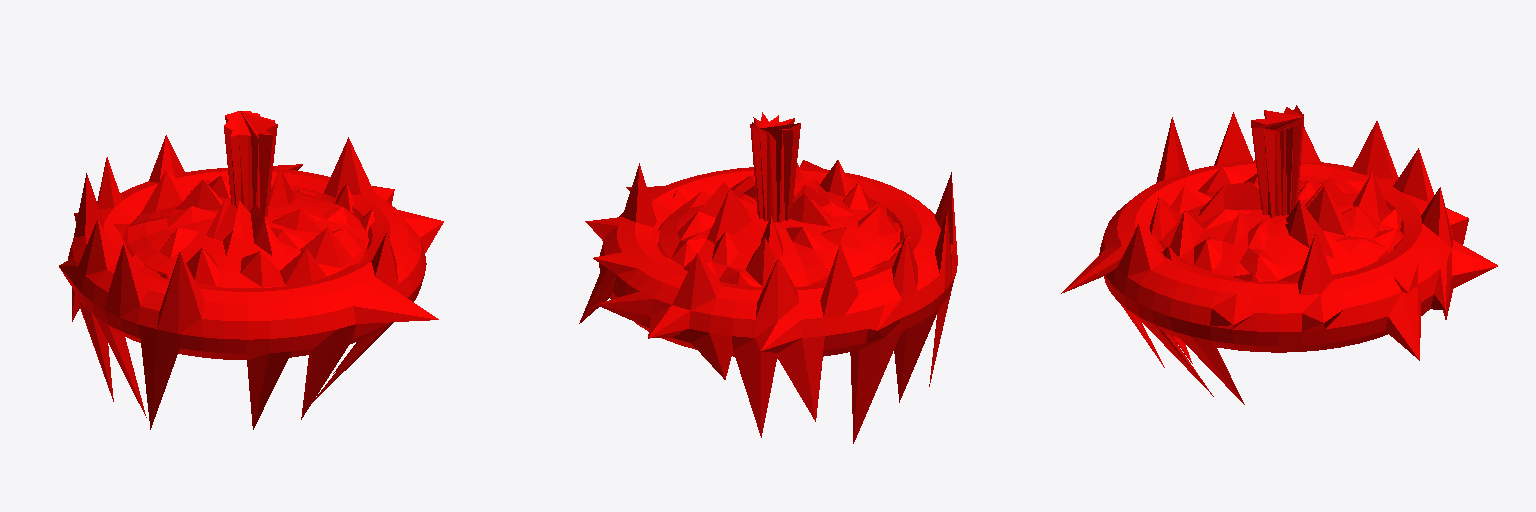
File: lvl_1.obj
3 views of the same model, side by side, from view 1: azimuth 30°, elevation 25°; view 2: azimuth 150°, elevation 25°; view 3: azimuth 270°, elevation 25° (orthographic).
Visible parts, largest first — view 1: Torus, Sphere, Cylinder; view 2: Torus, Sphere, Cylinder; view 3: Torus, Sphere, Cylinder.
Boxes of the visible parts, x1,y1,x2,y2 form: Torus: [59, 135, 443, 429]; Sphere: [113, 168, 374, 288]; Cylinder: [224, 111, 277, 218]; Torus: [579, 160, 957, 443]; Sphere: [652, 160, 910, 286]; Cylinder: [750, 112, 800, 222]; Torus: [1061, 112, 1497, 404]; Sphere: [1149, 166, 1402, 281]; Cylinder: [1251, 105, 1303, 217].
Size of the model in its own units: 2.66 by 2.15 by 3.05.